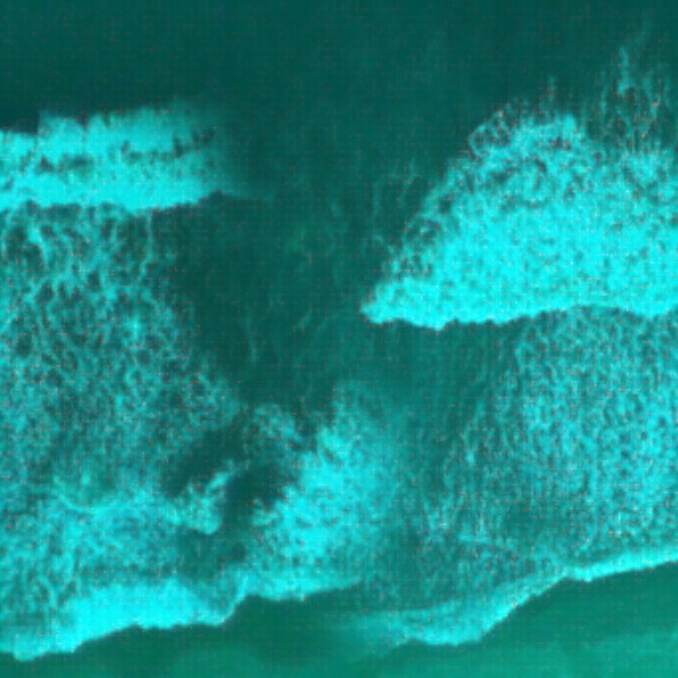rip_current: (144, 37, 407, 554)
